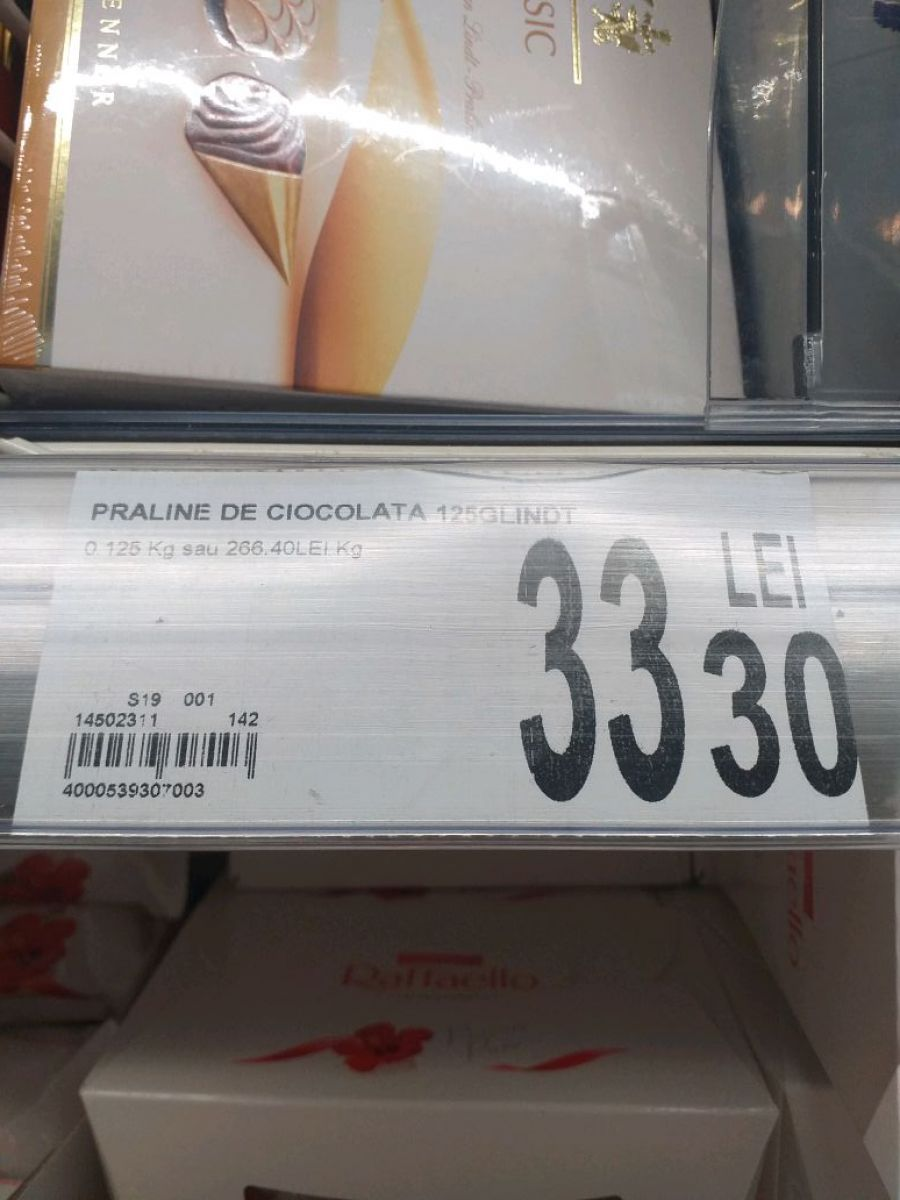price_bani: (697, 622, 865, 808)
price_lei: (506, 532, 690, 813)
price_tag: (1, 450, 886, 861)
product_id: (52, 776, 218, 811)
product_name: (82, 496, 585, 528)
